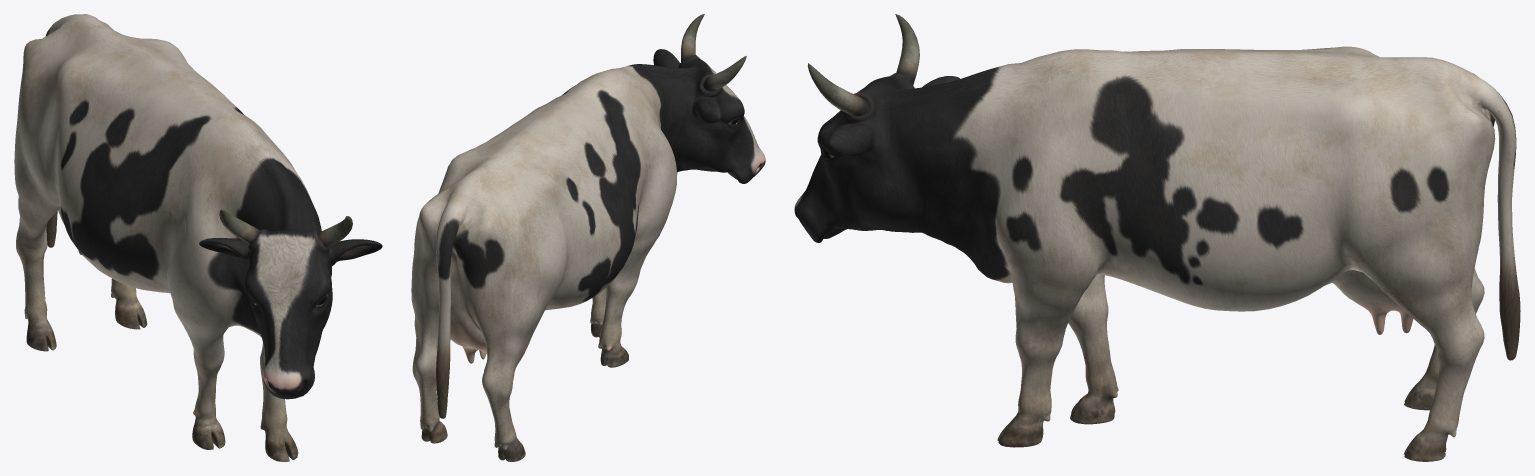
Rendered from Cow1.glb.
3 views of the same model, side by side, from view 1: azimuth 30°, elevation 25°; view 2: azimuth 150°, elevation 25°; view 3: azimuth 270°, elevation 25° (orthographic). The views are drawn at different scales.
Visible parts, largest first — view 1: cow.1; view 2: cow.1; view 3: cow.1.
Boxes of the visible parts, x1,y1,x2,y2 form: cow.1: (14, 14, 382, 461); cow.1: (411, 14, 765, 461); cow.1: (794, 14, 1520, 461).
Bounding box in the file's own units: 1.5 × 2.56 × 4.46.
Materials: 1 (1 with a texture image).
